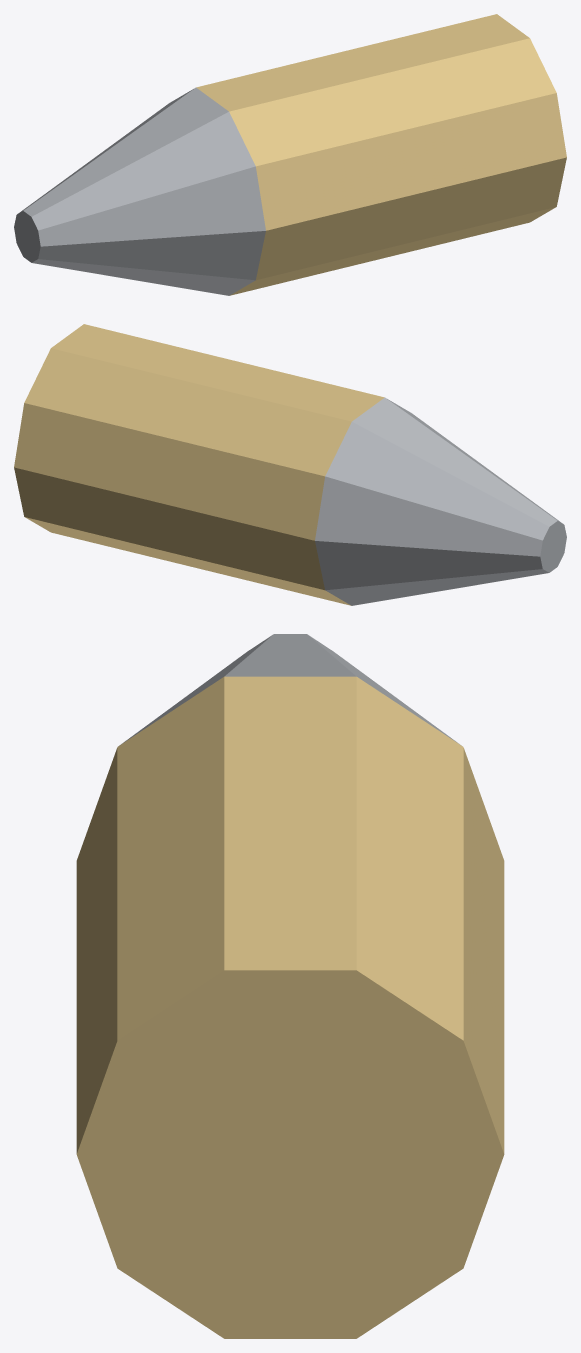
3 views of the same model, one above another, from view 1: azimuth 30°, elevation 25°; view 2: azimuth 150°, elevation 25°; view 3: azimuth 270°, elevation 25° (orthographic). The views are drawn at different scales.
Visible parts, largest first — view 1: B_762x39_Body, B_762x39_Tip; view 2: B_762x39_Body, B_762x39_Tip; view 3: B_762x39_Body, B_762x39_Tip.
Part boxes in pixels (x1,y1,x2,y2): B_762x39_Body: (196,14,566,295); B_762x39_Tip: (14,87,265,295); B_762x39_Body: (14,324,384,605); B_762x39_Tip: (315,397,566,605); B_762x39_Body: (76,676,504,1338); B_762x39_Tip: (119,634,461,745).
Bounding box in the file's own units: 0.042 × 0.0152 × 0.016.
